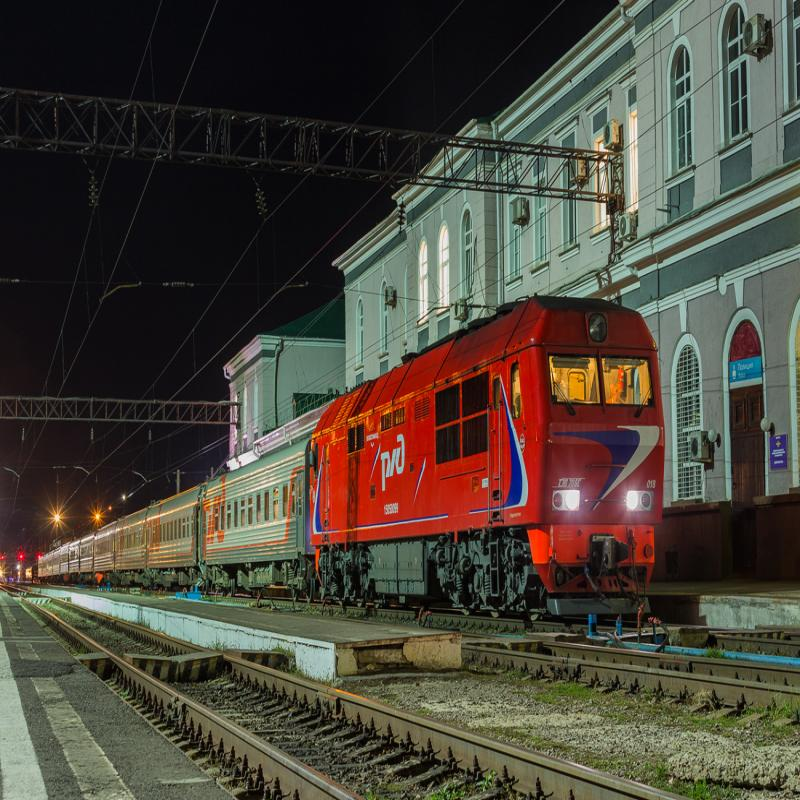train: (312, 248, 686, 647), (199, 444, 333, 615), (145, 477, 221, 608)
